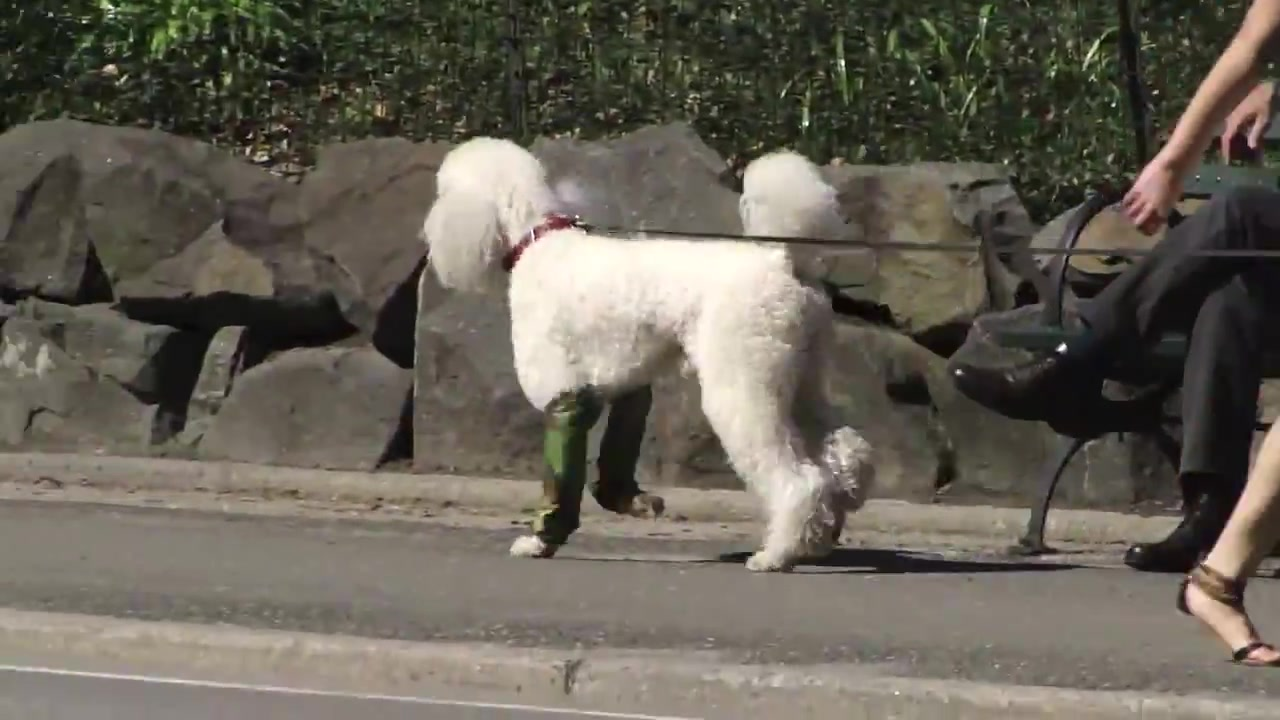dog: (427, 133, 879, 577)
